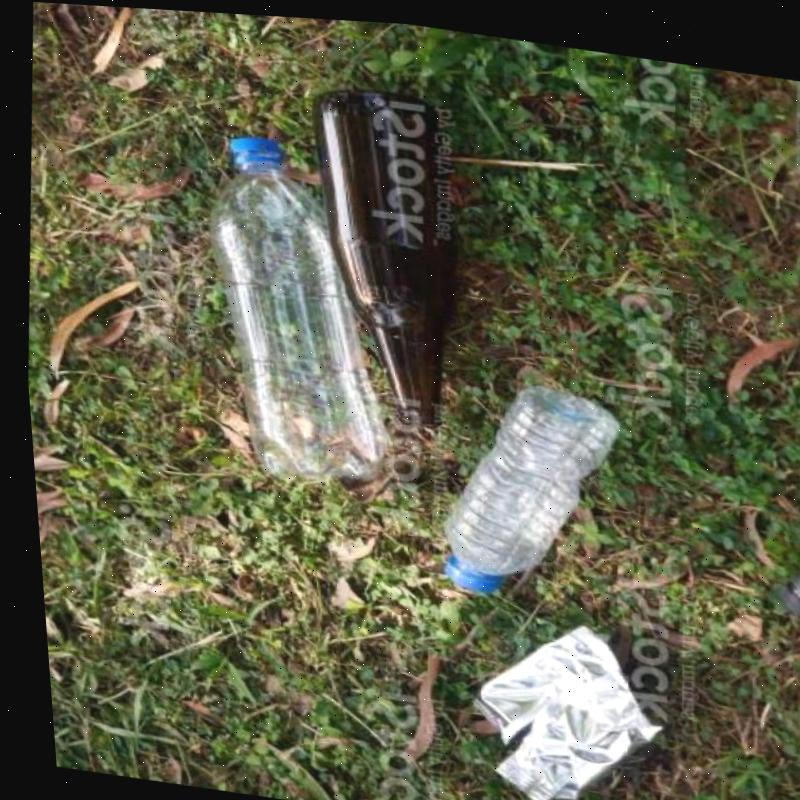botella: (155, 124, 409, 491), (419, 360, 632, 608)
